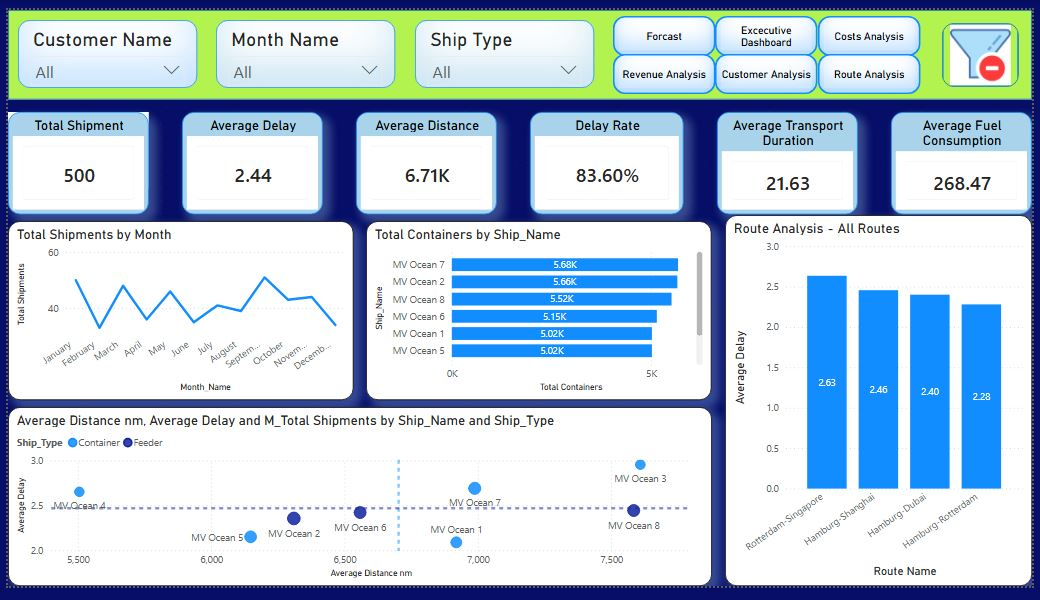

The dashboard page shown, as its layout file describes it:
{"tool":"powerbi","page":{"name":"04 Operational Performance","canvas":[1280,720],"ordinal":3},"visuals":[{"type":"shape","box":[0,0,1280,112],"z":0,"group":"g2"},{"type":"cardVisual","title":"Total Shipment","fields":{"Data":["Measure.M_Total Shipments"]},"box":[0,128,176,96],"z":0},{"type":"image","box":[1168,16,96,80],"z":1000,"group":"g2"},{"type":"cardVisual","title":"Total Shipment","fields":{"Data":["Measure.M_Total Shipments"]},"box":[0,128,176,128],"z":1000},{"type":"slicer","fields":{"Values":["Dim_Ships.Ship_Type"]},"box":[508.5,12.5,224,85],"z":2000,"group":"g2"},{"type":"cardVisual","title":"Average Delay","fields":{"Data":["Measure.M_Average Delay"]},"box":[217.6,128,176,128],"z":2000},{"type":"slicer","fields":{"Values":["Calender.Month_Name"]},"box":[260.5,12.5,224,85],"z":3000,"group":"g2"},{"type":"cardVisual","title":"Average Distance","fields":{"Data":["Measure.M_Average Distance"]},"box":[435.2,128,176,128],"z":3000},{"type":"slicer","fields":{"Values":["Dim_Customers.Customer_Name"]},"box":[12.5,12.5,224,85],"z":4000,"group":"g2"},{"type":"cardVisual","title":"Average Fuel Consumption","fields":{"Data":["Measure.M_Average Fuel Consumption"]},"box":[1104,128,176,128],"z":4000},{"type":"shape","box":[756.2,7.5,128,50],"z":5000,"group":"g2"},{"type":"cardVisual","title":"Average Transport Duration","fields":{"Data":["Measure.M_Average Transport Duration"]},"box":[886.4,128,176,128],"z":5000},{"type":"shape","box":[884.2,7.5,128,50],"z":6000,"group":"g2"},{"type":"cardVisual","title":"Delay Rate","fields":{"Data":["Measure.M_Delay Rate"]},"box":[652.8,128,192,128],"z":6000},{"type":"shape","box":[1012.2,7.5,128,50],"z":7000,"group":"g2"},{"type":"lineChart","title":"Total Shipments by Month","fields":{"Y":["Measure.M_Total Shipments"],"Category":["Calender.Month_Name"]},"box":[0,264,432,224],"z":7000},{"type":"shape","box":[756.2,55.5,128,50],"z":8000,"group":"g2"},{"type":"columnChart","fields":{"Category":["Dim_Routes.Route_Name"],"Y":["Measure.M_Average Delay"]},"box":[896,256,384,464],"z":8000},{"type":"shape","box":[884.2,55.5,128,50],"z":9000,"group":"g2"},{"type":"barChart","fields":{"Y":["Measure.M_Total Containers"],"Category":["Dim_Ships.Ship_Name"]},"box":[448,264,432,224],"z":9000},{"type":"shape","box":[1012.2,55.5,128,50],"z":10000,"group":"g2"},{"type":"scatterChart","fields":{"X":["Measure.M_Average Distance"],"Y":["Measure.M_Average Delay"],"Category":["Dim_Ships.Ship_Name"],"Size":["Measure.M_Total Shipments"],"Series":["Dim_Ships.Ship_Type"]},"box":[0,496,880,224],"z":10000},{"type":"group","id":"g1","title":"Group 1","box":[0,0,1280,112],"z":11000},{"type":"group","id":"g2","title":"Group 2","box":[0,0,1280,112],"z":11001,"group":"g1"}]}

Visuals, with their boxes in screenshot pixels (x1, y1, x2, y2), scaled from the page's 1280x720 canvas onto the 1040x600 screenshot:
shape: 0:0:1039:93
"Total Shipment" cardVisual: 0:107:143:187
image: 949:13:1027:80
"Total Shipment" cardVisual: 0:107:143:213
slicer - Dim_Ships.Ship_Type: 413:10:595:81
"Average Delay" cardVisual: 177:107:320:213
slicer - Calender.Month_Name: 212:10:394:81
"Average Distance" cardVisual: 354:107:497:213
slicer - Dim_Customers.Customer_Name: 10:10:192:81
"Average Fuel Consumption" cardVisual: 897:107:1039:213
shape: 614:6:718:48
"Average Transport Duration" cardVisual: 720:107:863:213
shape: 718:6:822:48
"Delay Rate" cardVisual: 530:107:686:213
shape: 822:6:926:48
"Total Shipments by Month" lineChart: 0:220:351:407
shape: 614:46:718:88
columnChart - Dim_Routes.Route_Name x Measure.M_Average Delay: 728:213:1039:599
shape: 718:46:822:88
barChart - Measure.M_Total Containers x Dim_Ships.Ship_Name: 364:220:715:407
shape: 822:46:926:88
scatterChart - Measure.M_Average Distance x Measure.M_Average Delay: 0:413:715:599
"Group 1" group: 0:0:1039:93
"Group 2" group: 0:0:1039:93
